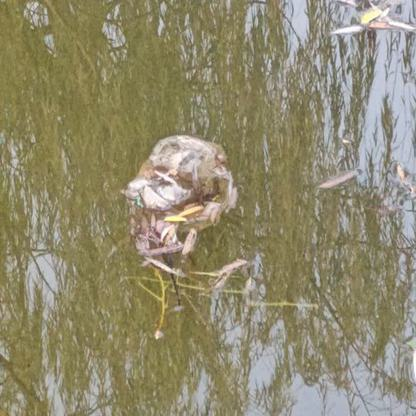plastic bag: (118, 135, 234, 211)
